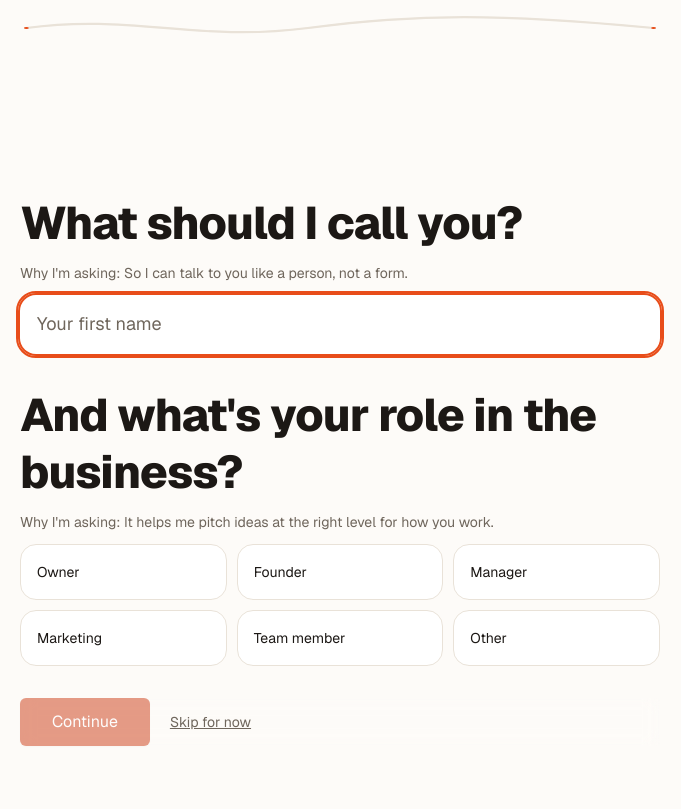
ConversationShell › adaptive branching › the follow-up depends on the industry just chosen, and every answer is saved
Type "Asha" into the field at (340, 325), box [20,296,660,354]
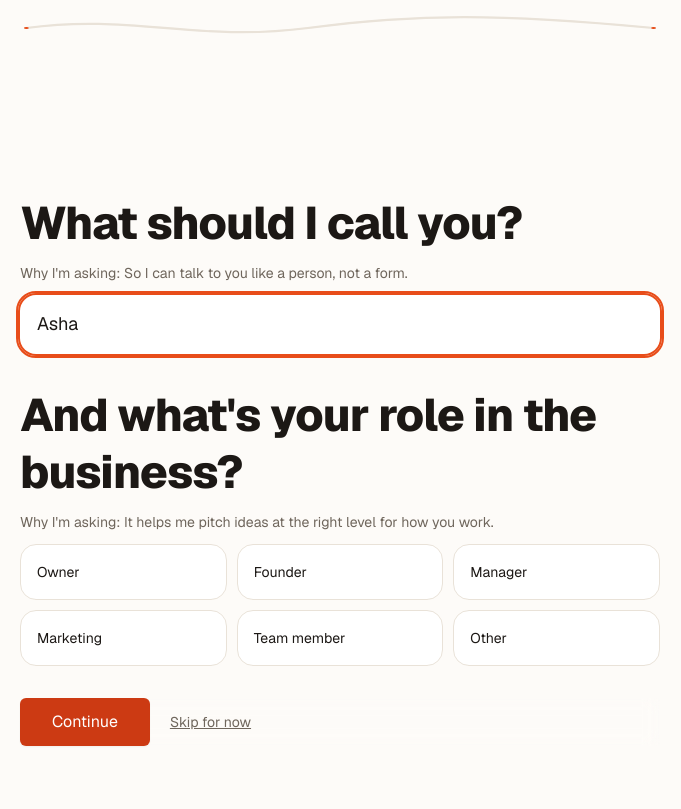
Click the radio button labelled "Owner" at (123, 572), box [20,544,227,600]
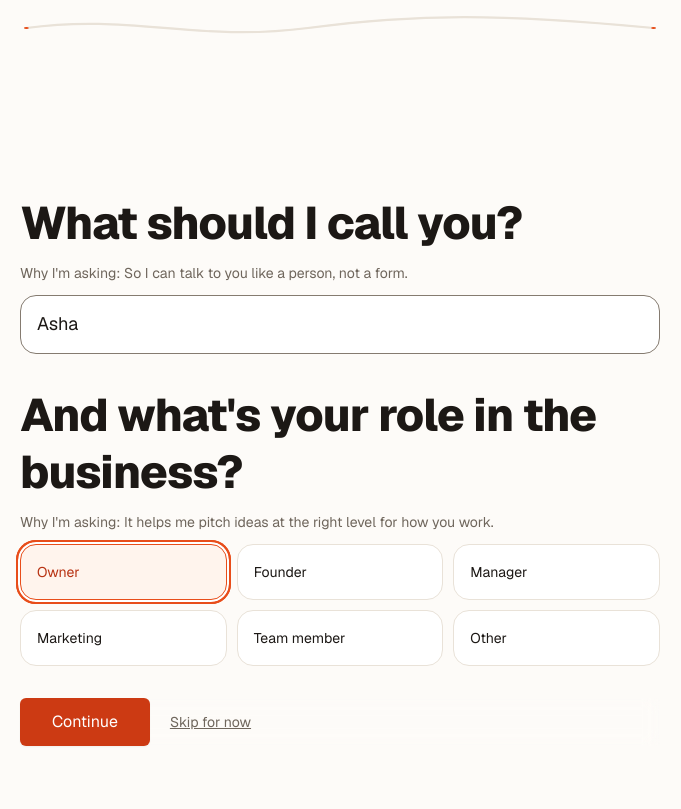
Click the button "Continue" at (85, 722), box [20,698,150,746]
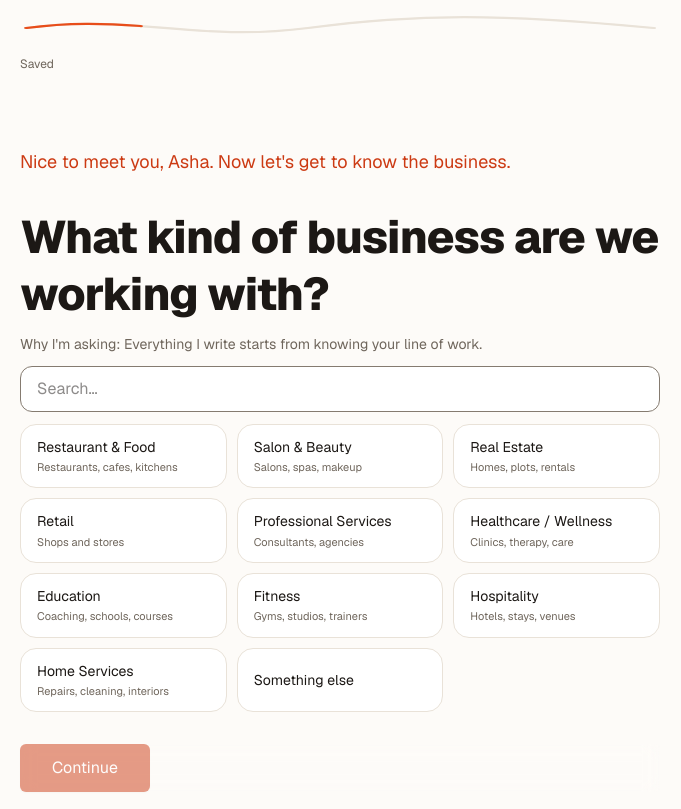
Check: the text "Nice to meet you, Asha. Now let's get to know the business." is shown, box [20,150,510,173]
Click the radio button labelled "Salon & Beauty Salons, spas, makeup" at (340, 456), box [237,424,443,488]
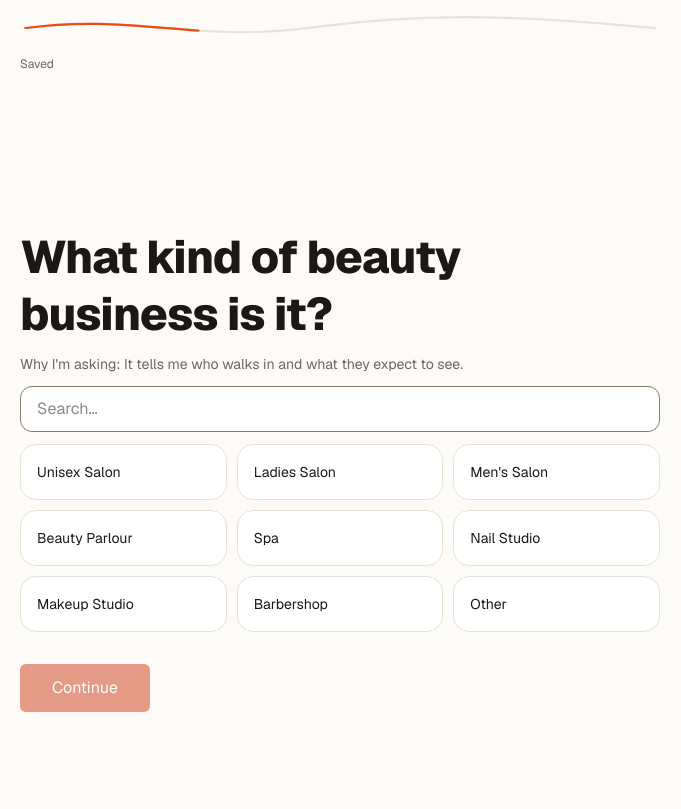
Check: the heading "What kind of beauty business is it?" is shown, box [20,227,461,343]
Check: the radio button labelled "Barbershop" is shown, box [237,576,443,632]
